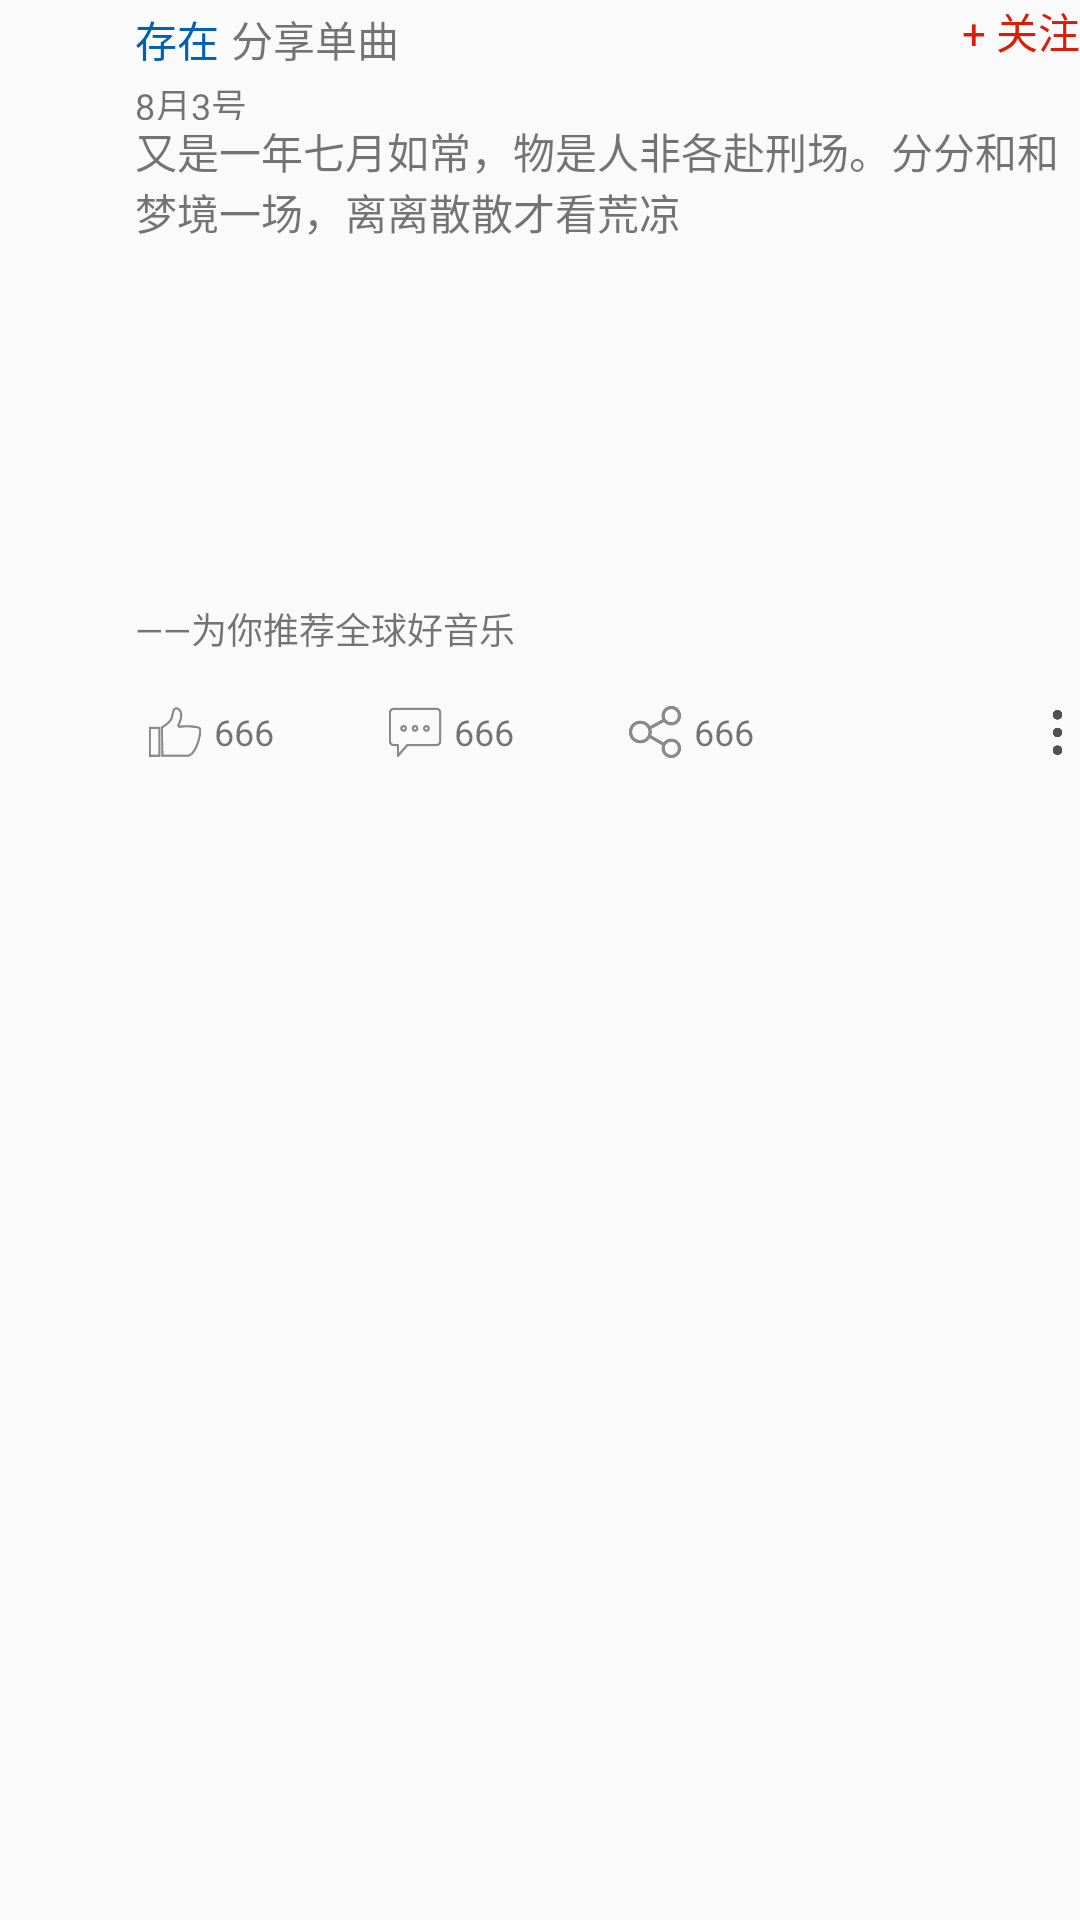

Screen size 1080 x 1920. Icon name, then its center in pixels as (x,y):
comment: (415,732)
detail menu: (1057,732)
share: (655,732)
zan: (175,732)
